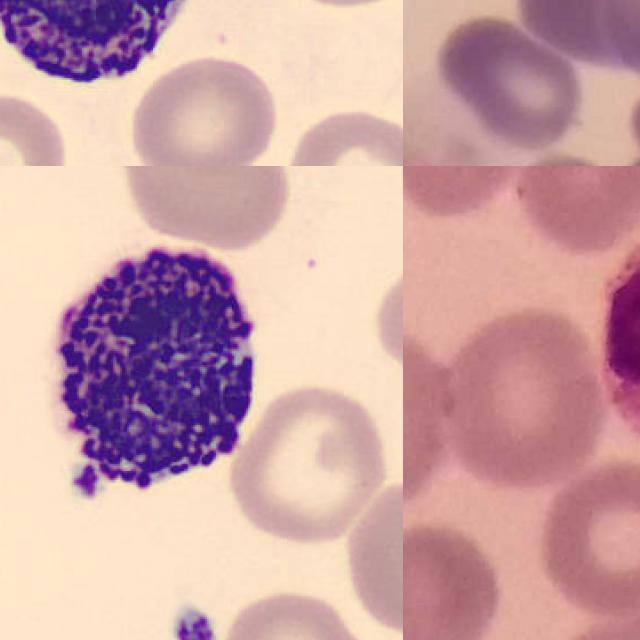Basophil: (26, 228, 269, 526), (0, 0, 206, 99)
Platelets: (166, 603, 221, 640)
RBC: (225, 377, 390, 545), (124, 50, 282, 166), (122, 166, 296, 252), (338, 465, 403, 640), (205, 583, 377, 640), (281, 103, 403, 166), (0, 85, 73, 166), (365, 254, 403, 405)
